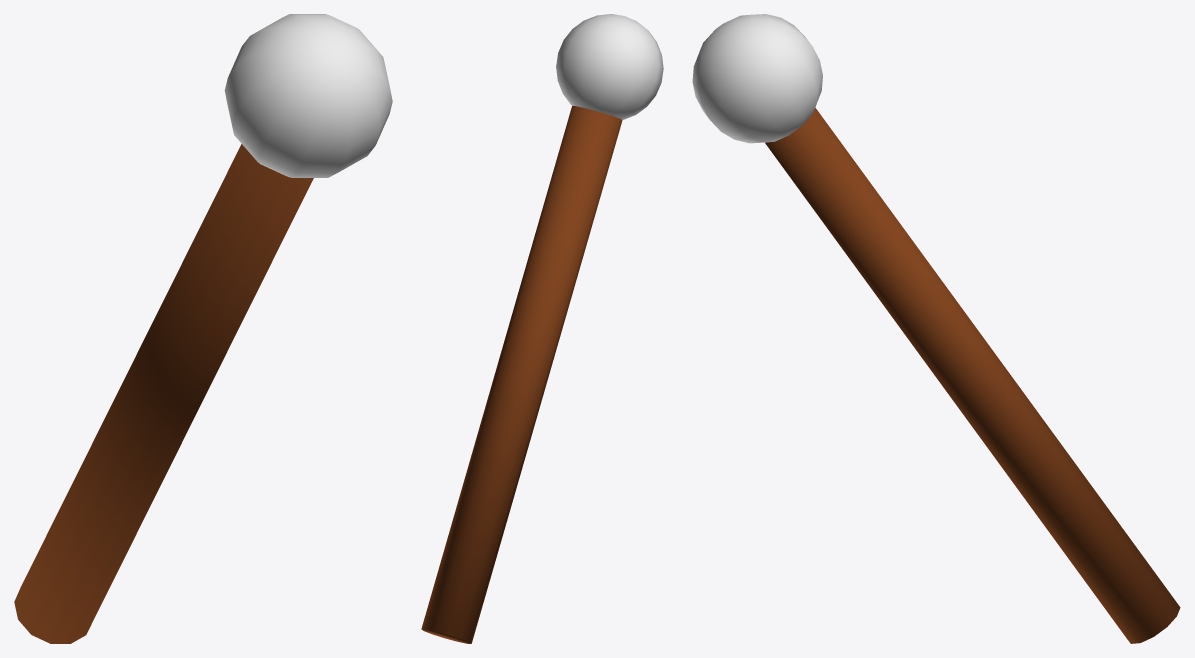
The model's file is godotTrigger.glb.
3 views of the same model, side by side, from view 1: azimuth 30°, elevation 25°; view 2: azimuth 150°, elevation 25°; view 3: azimuth 270°, elevation 25° (orthographic). The views are drawn at different scales.
Parts seen in each view (by area): view 1: Plate; view 2: Plate; view 3: Plate.
Boxes of the visible parts, left/top/right/bottom form: Plate: left=14, top=14, right=392, bottom=643; Plate: left=421, top=14, right=663, bottom=643; Plate: left=692, top=14, right=1180, bottom=643.
Size of the model in its own units: 0.5463 by 2.86 by 2.04.
